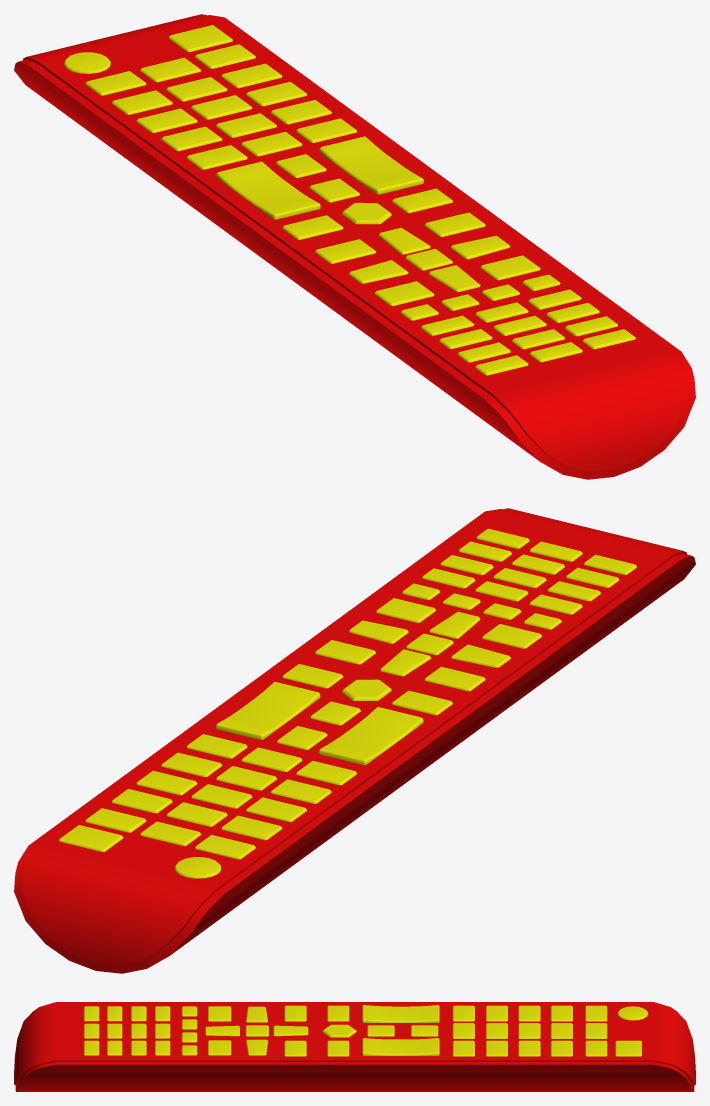
Rendered from RoboTHOR_remotes_grp.fbx.
3 views of the same model, one above another, from view 1: azimuth 30°, elevation 25°; view 2: azimuth 150°, elevation 25°; view 3: azimuth 270°, elevation 25° (orthographic). The views are drawn at different scales.
Parts seen in each view (by area): view 1: robothor_remote_coolux; view 2: robothor_remote_coolux; view 3: robothor_remote_coolux.
Part boxes in pixels (<box>): robothor_remote_coolux: <box>14,14,695,479</box>; robothor_remote_coolux: <box>14,508,695,973</box>; robothor_remote_coolux: <box>14,1002,695,1091</box>.
Bounding box in the file's own units: 4.25 × 1.79 × 19.52.
